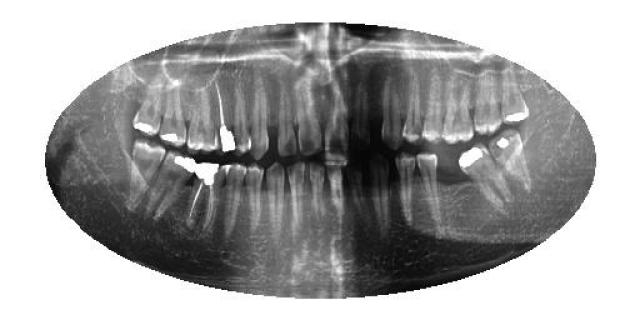Fillings: (146, 151, 198, 219), (458, 142, 500, 212), (490, 128, 532, 192), (132, 74, 162, 136), (499, 70, 530, 125), (162, 76, 186, 146)
Implant: (186, 162, 222, 232), (215, 81, 235, 152)
